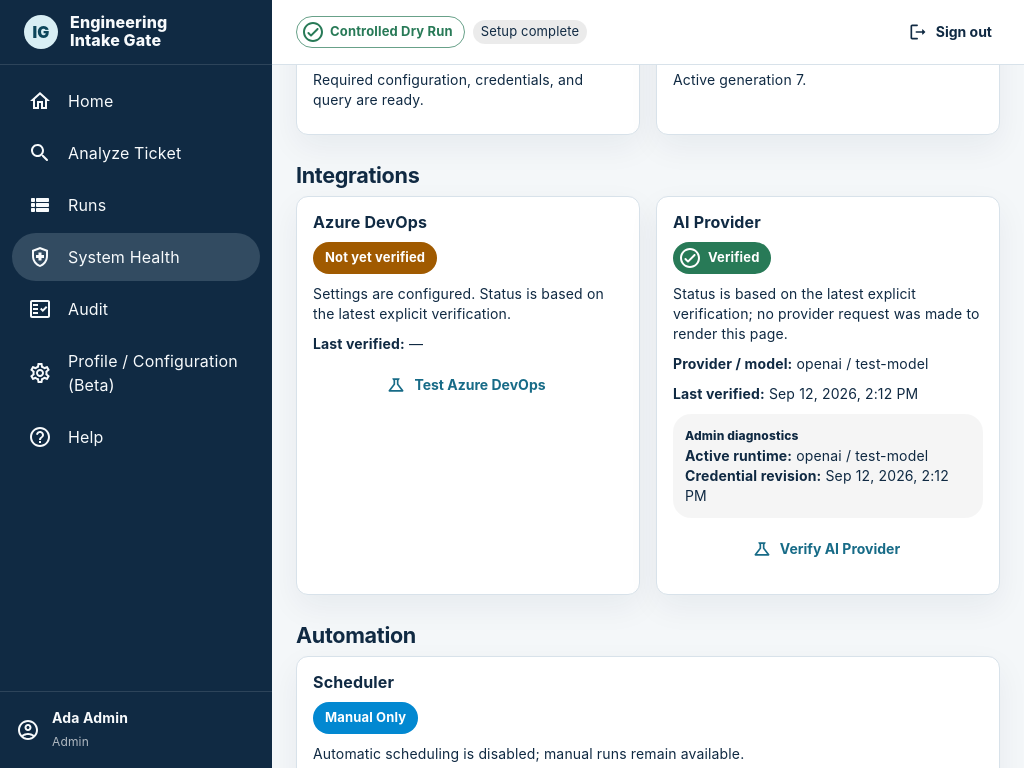
SUP-UI-003 explicit Admin connection test refreshes persisted status
The image size is (1024, 768).
(page scrolled)
Click the button "Test Azure DevOps" at (468, 385), box x1=313 y1=364 x2=623 y2=406
(page scrolled)
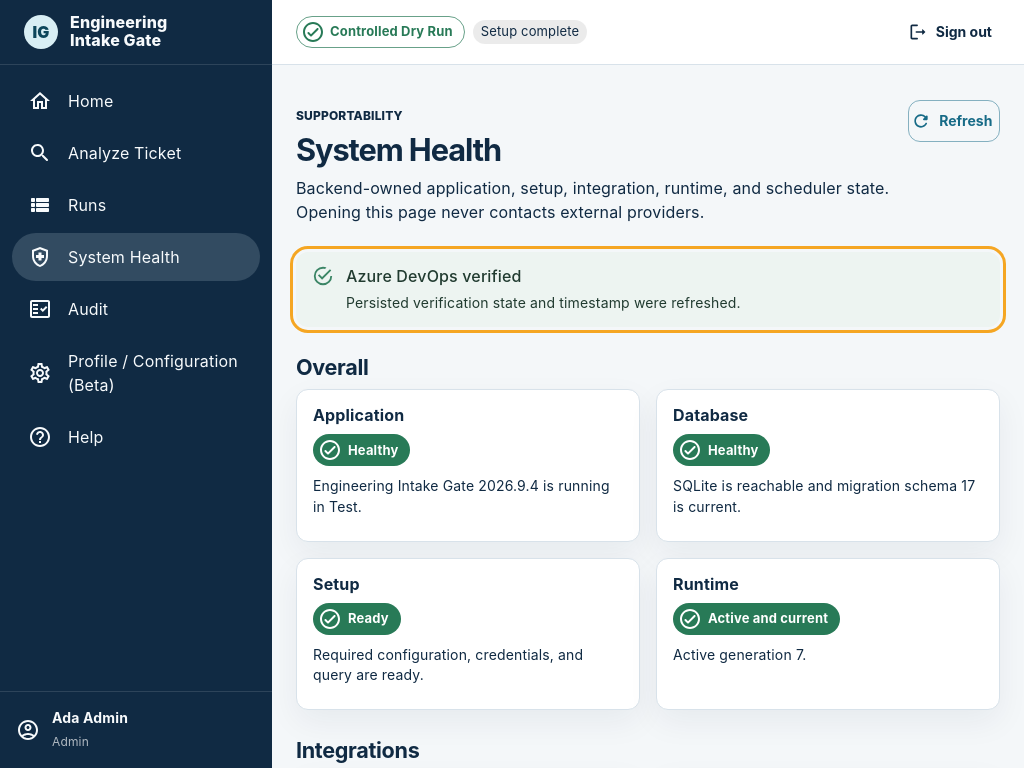
Check: the text "Azure DevOps verified" is shown, box x1=346 y1=266 x2=522 y2=286
